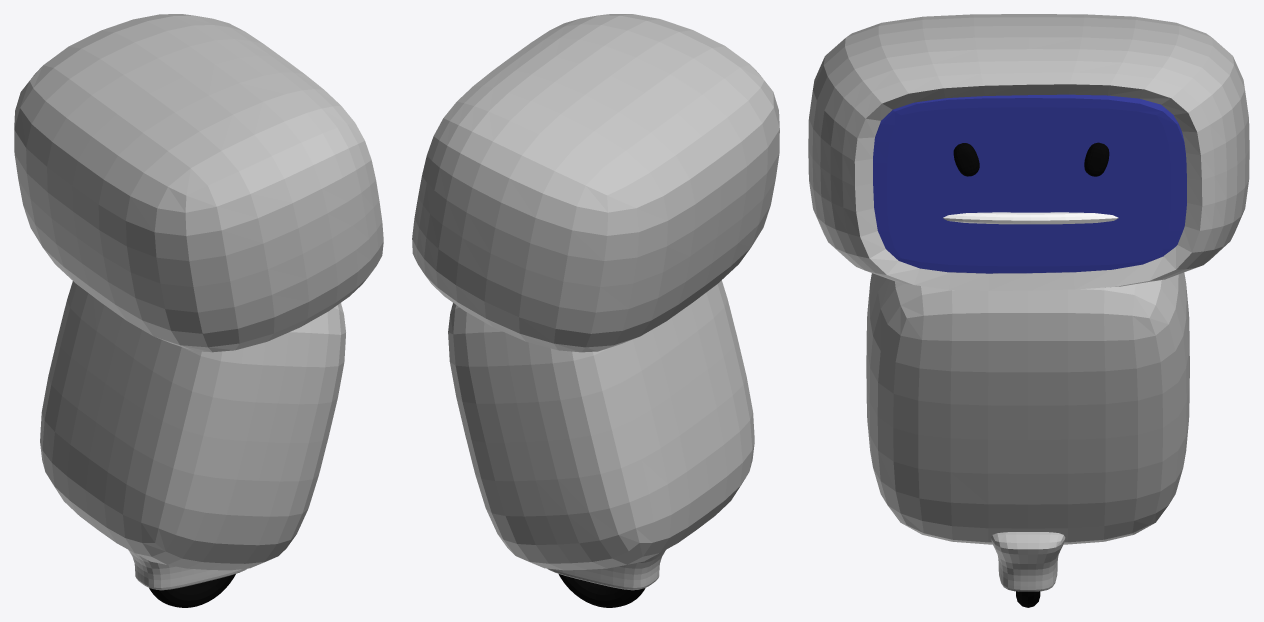
Rendered from robotTexture.gltf.
3 views of the same model, side by side, from view 1: azimuth 30°, elevation 25°; view 2: azimuth 150°, elevation 25°; view 3: azimuth 270°, elevation 25° (orthographic). The views are drawn at different scales.
Visible parts, largest first — view 1: Head, body, Leg, wheel; view 2: Head, body, Leg, wheel; view 3: body, Head, Face, Leg, Mouth, R eye, L eye.
Part boxes in pixels (<box>): Head: <box>14,14,383,352</box>; body: <box>40,281,345,570</box>; Leg: <box>128,550,246,590</box>; wheel: <box>149,574,235,607</box>; Head: <box>412,14,779,352</box>; body: <box>448,280,754,570</box>; Leg: <box>547,549,666,590</box>; wheel: <box>558,574,645,607</box>; body: <box>866,272,1189,544</box>; Head: <box>808,14,1249,290</box>; Face: <box>873,94,1186,273</box>; Leg: <box>991,532,1065,591</box>; Mouth: <box>943,212,1118,224</box>; R eye: <box>953,143,979,176</box>; L eye: <box>1084,142,1109,176</box>.
Bounding box in the file's own units: 1.07 × 2.29 × 1.59.
Materials: 4 (4 with a texture image).
